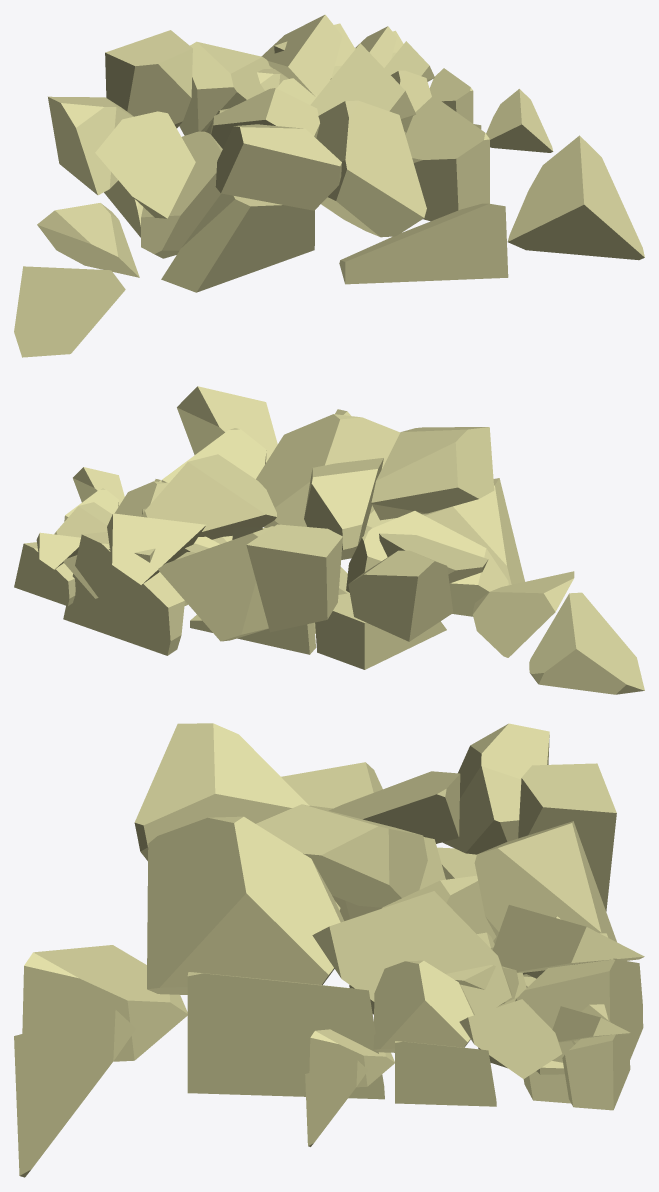
Rendered from Escombros_1.fbx.
3 views of the same model, one above another, from view 1: azimuth 30°, elevation 25°; view 2: azimuth 150°, elevation 25°; view 3: azimuth 270°, elevation 25° (orthographic). The views are drawn at different scales.
Parts seen in each view (by area): view 1: Escombros_1; view 2: Escombros_1; view 3: Escombros_1.
Boxes of the visible parts, x1,y1,x2,y2 form: Escombros_1: [14, 14, 644, 357]; Escombros_1: [14, 386, 644, 694]; Escombros_1: [14, 723, 644, 1177].
Size of the model in its own units: 121 by 41.68 by 86.74.
